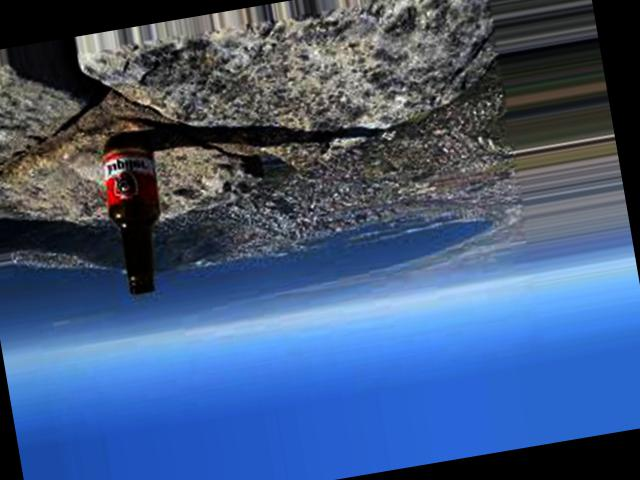beer: (96, 135, 175, 298)
